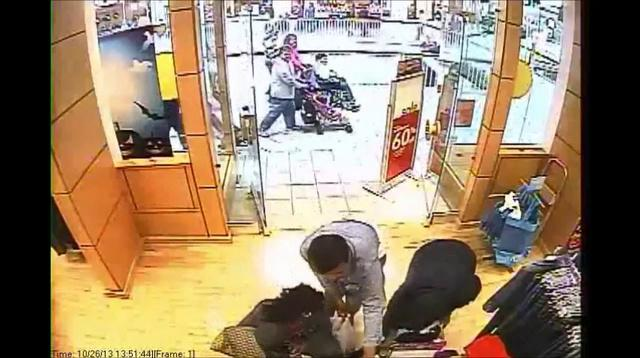Product: (390, 304, 429, 353)
Regular: (228, 267, 333, 358), (282, 195, 380, 280)
Shoplifting: (364, 234, 477, 358)
